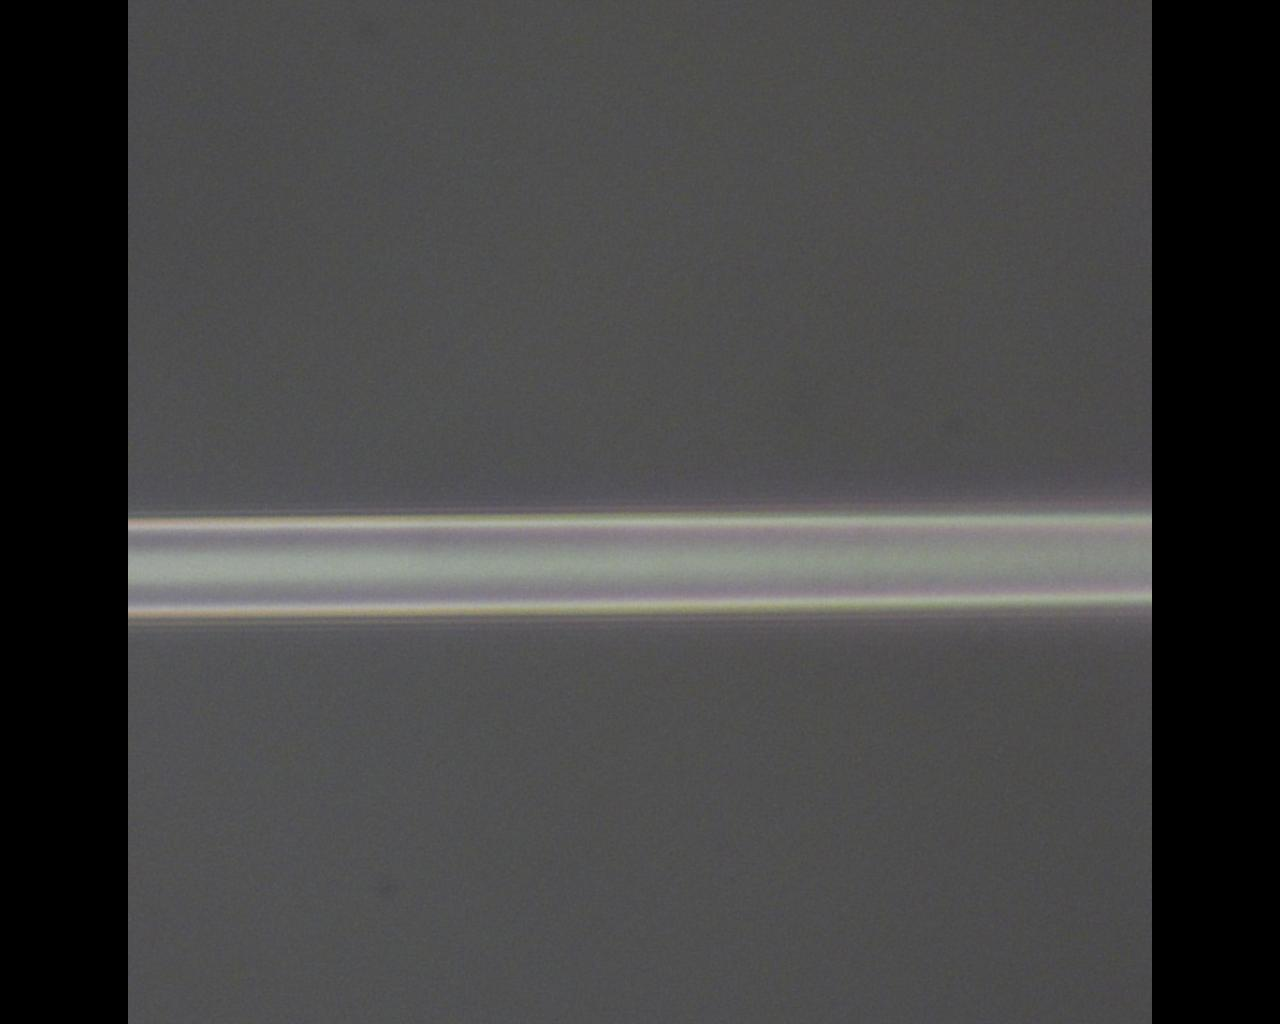fiber: (0, 548, 563, 979), (38, 76, 563, 419), (1002, 0, 1237, 419)
